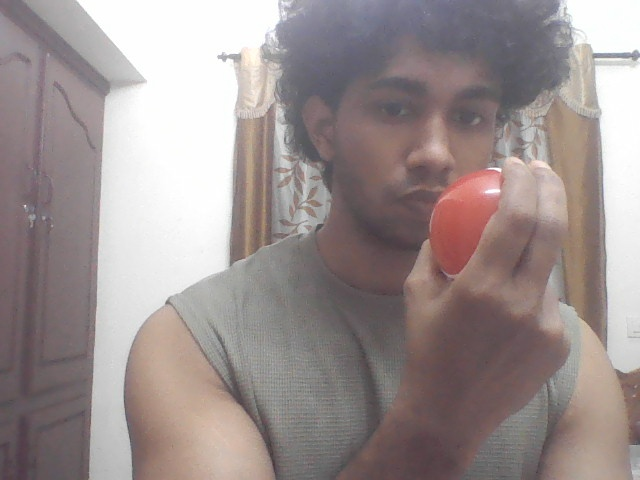cricket_ball: (424, 165, 513, 291)
